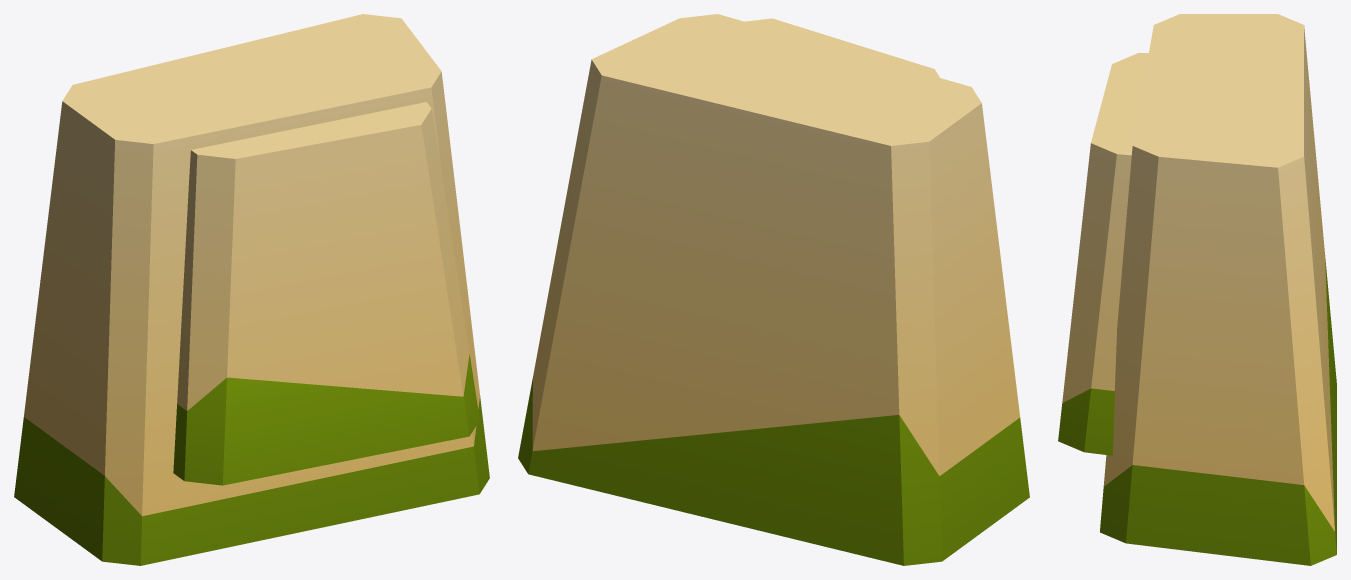
The model's file is Rock_04.fbx.
The picture shows the model from 3 angles, left to right: view 1: azimuth 30°, elevation 25°; view 2: azimuth 150°, elevation 25°; view 3: azimuth 270°, elevation 25°; orthographic projection. The views are drawn at different scales.
Parts seen in each view (by area): view 1: Rock_04; view 2: Rock_04; view 3: Rock_04.
Part boxes in pixels (bbox=[...]): Rock_04: bbox=[14, 14, 489, 565]; Rock_04: bbox=[518, 14, 1029, 565]; Rock_04: bbox=[1058, 14, 1336, 565].
Size of the model in its own units: 608 by 547 by 371.
